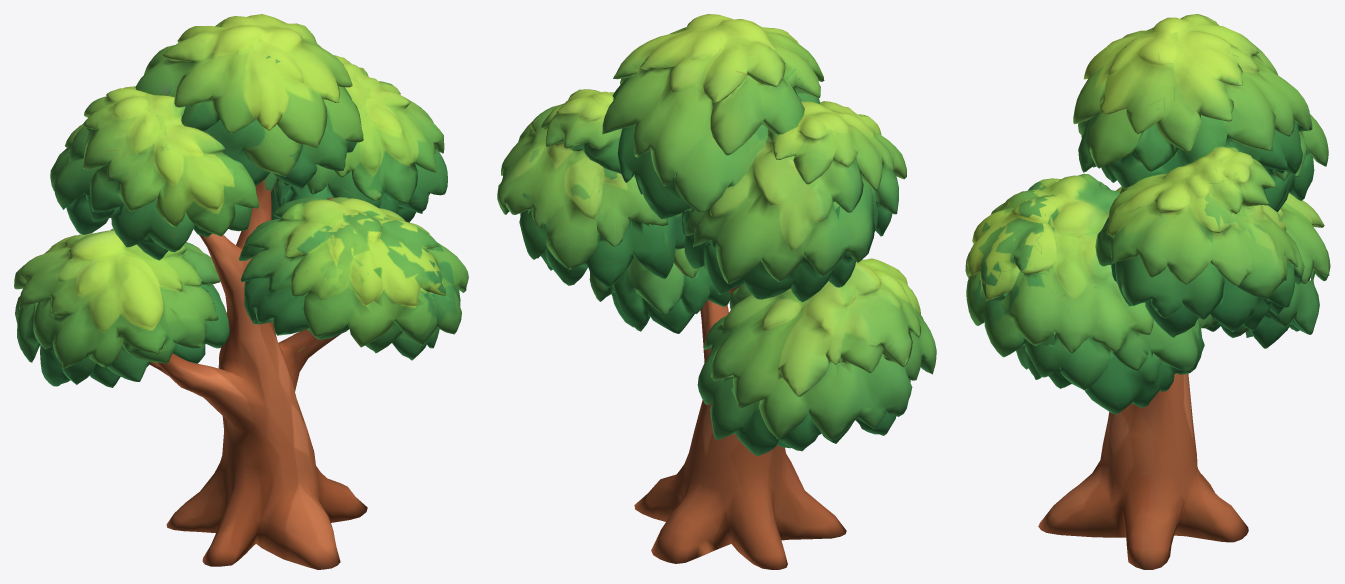
The model's file is Meshy_AI_Emerald_Canopy_1024225650_texture.fbx.
The picture shows the model from 3 angles, left to right: view 1: azimuth 30°, elevation 25°; view 2: azimuth 150°, elevation 25°; view 3: azimuth 270°, elevation 25°; orthographic projection. The views are drawn at different scales.
Visible parts, largest first — view 1: Mesh_0; view 2: Mesh_0; view 3: Mesh_0.
Boxes of the visible parts, box(x1,y1,x2,y2) form: Mesh_0: box(14, 14, 468, 569); Mesh_0: box(497, 14, 936, 569); Mesh_0: box(965, 14, 1330, 569).
Bounding box in the file's own units: 78.76 × 95.17 × 63.67.
Materials: 1 (1 with a texture image).
